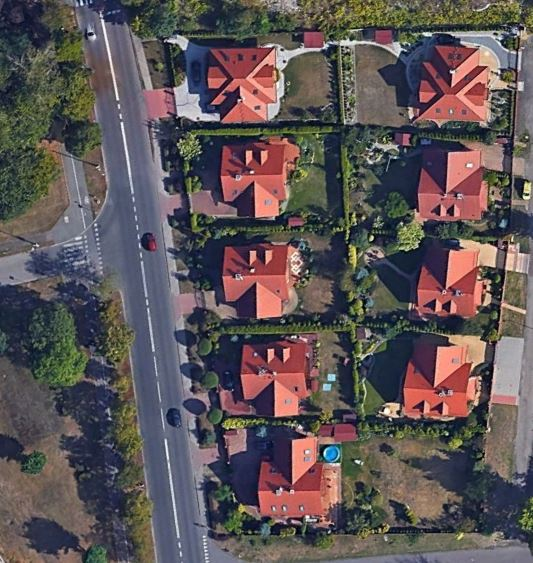family house: (218, 238, 297, 326), (400, 336, 482, 420), (255, 433, 332, 521), (217, 137, 296, 221), (413, 37, 491, 122), (205, 42, 284, 124), (411, 239, 485, 322), (236, 338, 310, 417), (416, 143, 489, 222)
